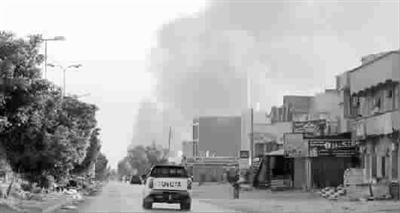smoke: (156, 11, 359, 102)
